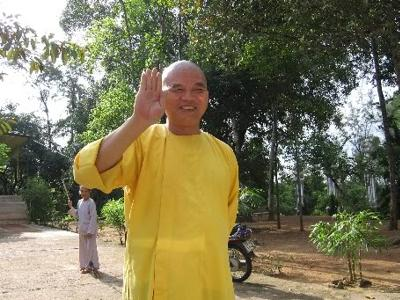person: (73, 60, 240, 300)
